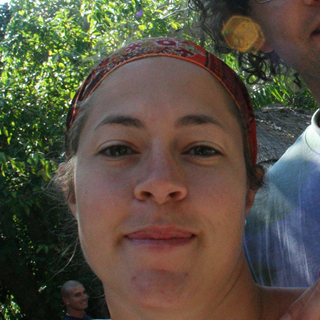eye: (177, 139, 225, 164), (94, 139, 143, 163)
